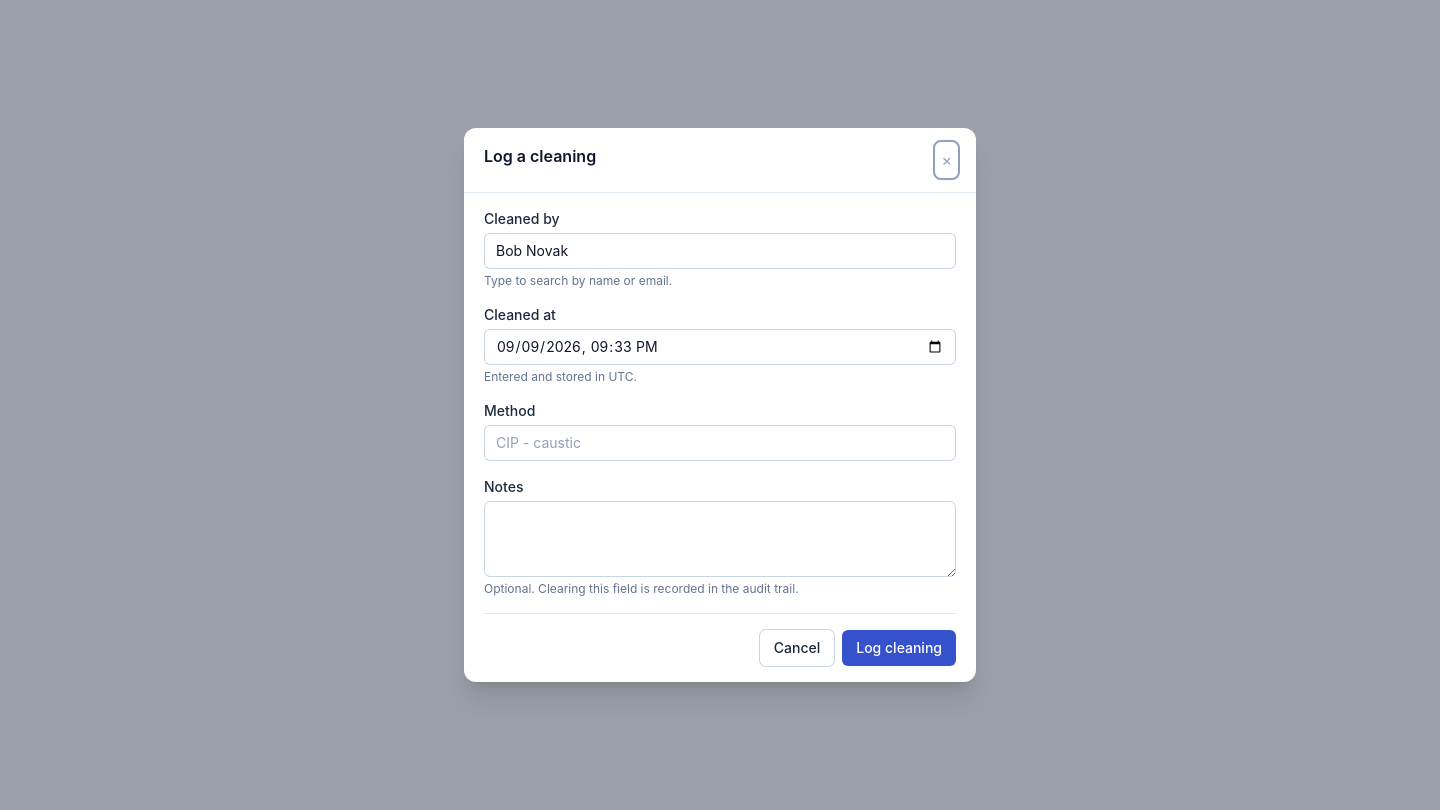
Test: RecordFormDialog › blocks submission and reports the field when a required value is missing
This screenshot has width=1440, height=810.
Clear the field labelled "Method": (720, 443) [484,425,956,461]
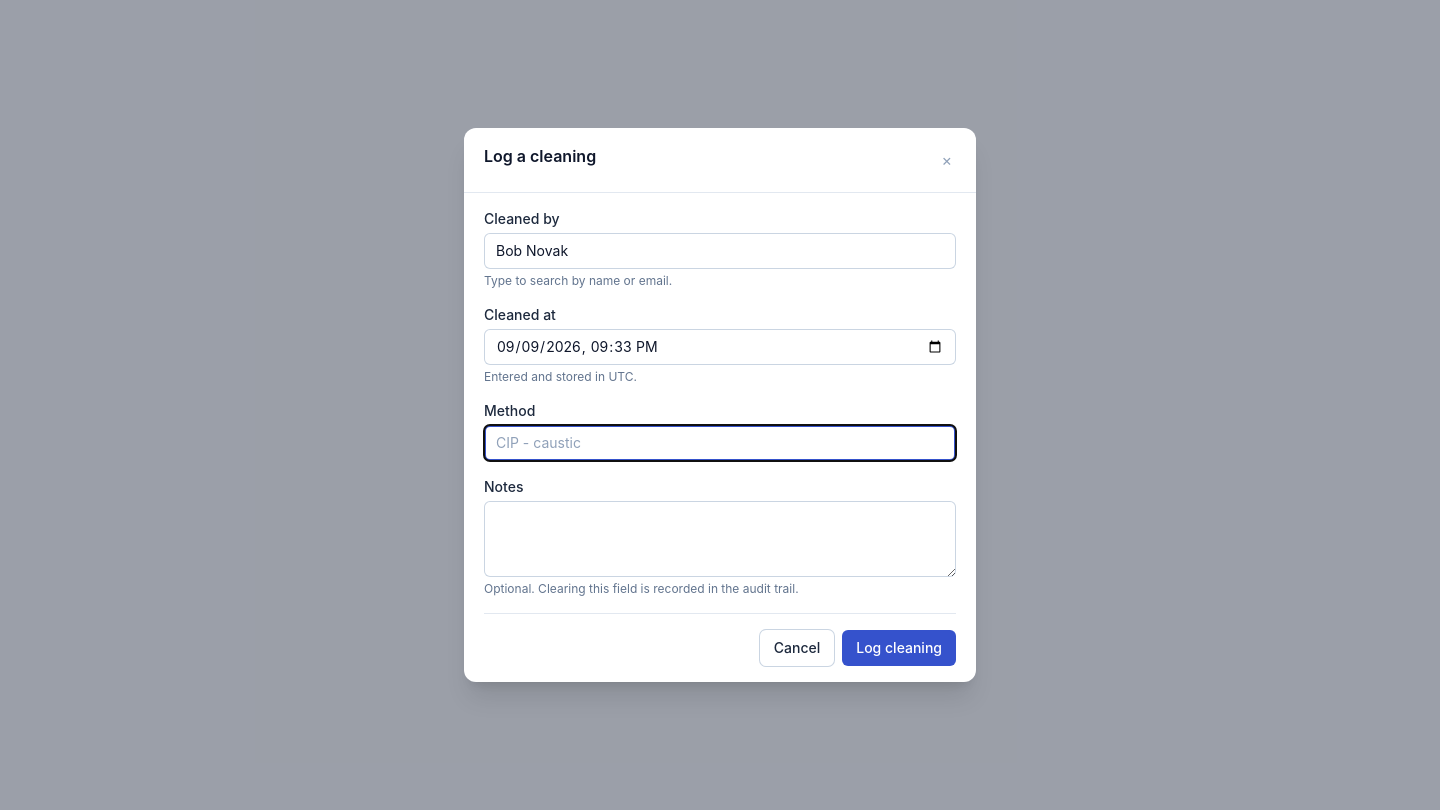
Click the button "Log cleaning": (899, 648) [842,630,956,666]
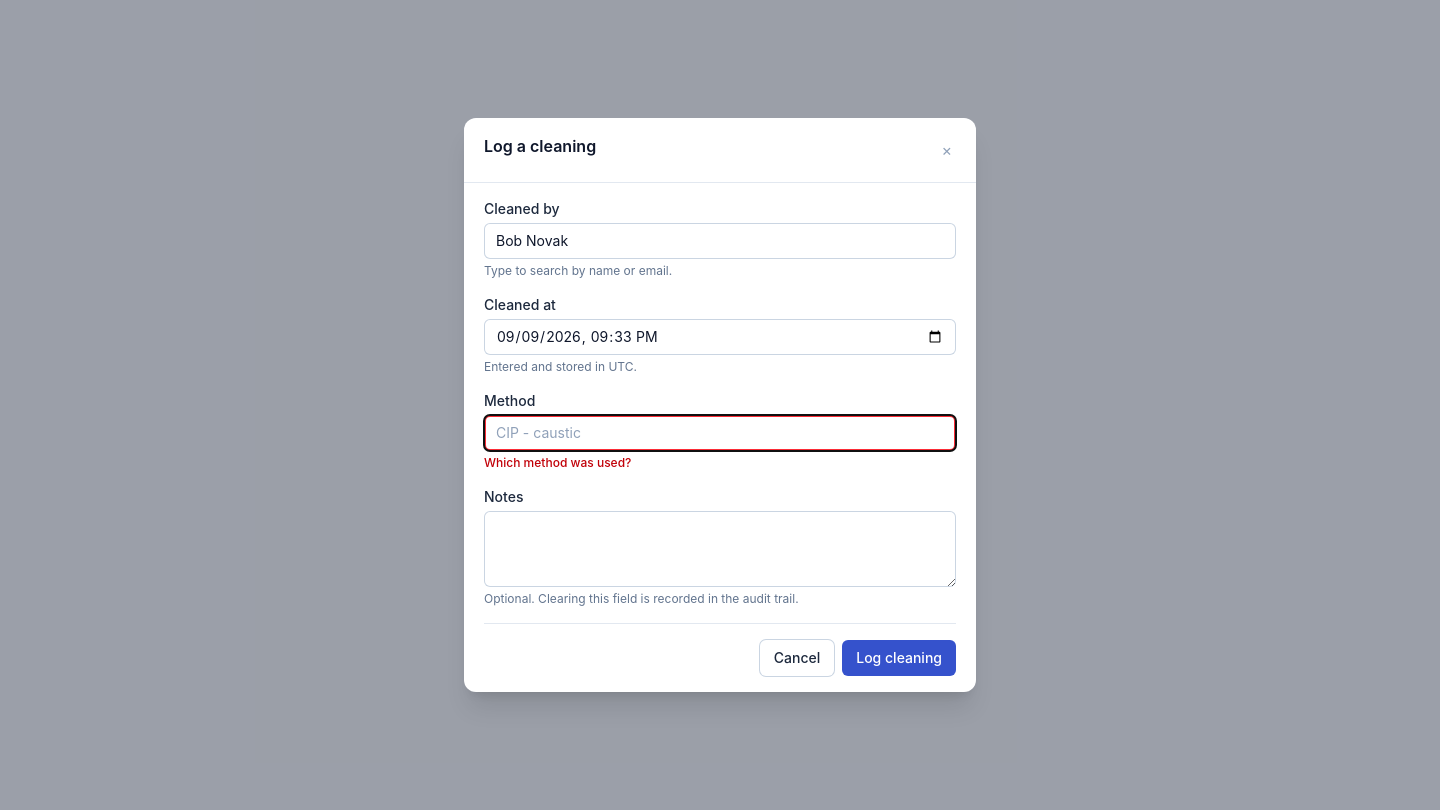
Expected: the text "Which method was used?" is shown, [484,455,631,470]
